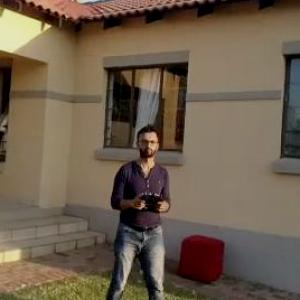follow: (104, 120, 186, 299)
